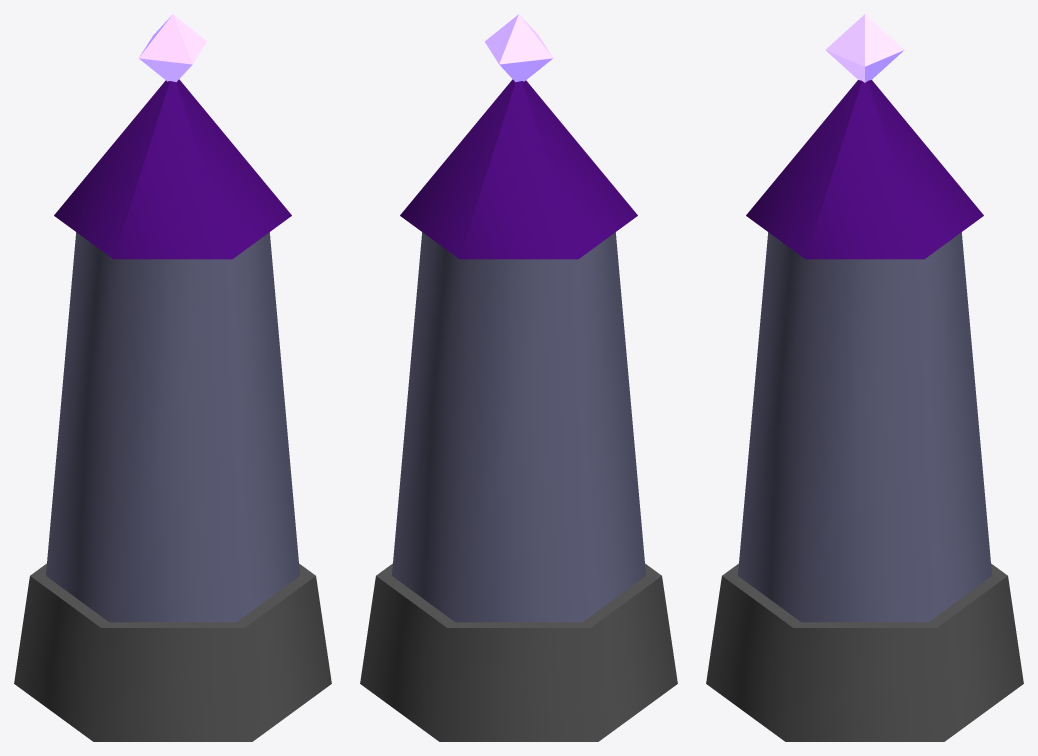
File: mage_tower.glb
3 renders of one model, left to right at view 1: azimuth 30°, elevation 25°; view 2: azimuth 150°, elevation 25°; view 3: azimuth 270°, elevation 25°, orthographic.
Visible parts, largest first — view 1: node_1, node_0, node_2, node_3; view 2: node_1, node_0, node_2, node_3; view 3: node_1, node_0, node_2, node_3.
Boxes of the visible parts, x1,y1,x2,y2 form: node_1: [46, 232, 299, 622]; node_0: [14, 563, 331, 741]; node_2: [54, 79, 291, 259]; node_3: [138, 14, 207, 82]; node_1: [392, 232, 645, 622]; node_0: [360, 563, 677, 741]; node_2: [400, 79, 637, 259]; node_3: [484, 14, 553, 82]; node_1: [738, 232, 991, 622]; node_0: [706, 563, 1023, 741]; node_2: [746, 80, 983, 259]; node_3: [825, 14, 904, 82].
Size of the model in its own units: 0.3464 by 0.93 by 0.4.
